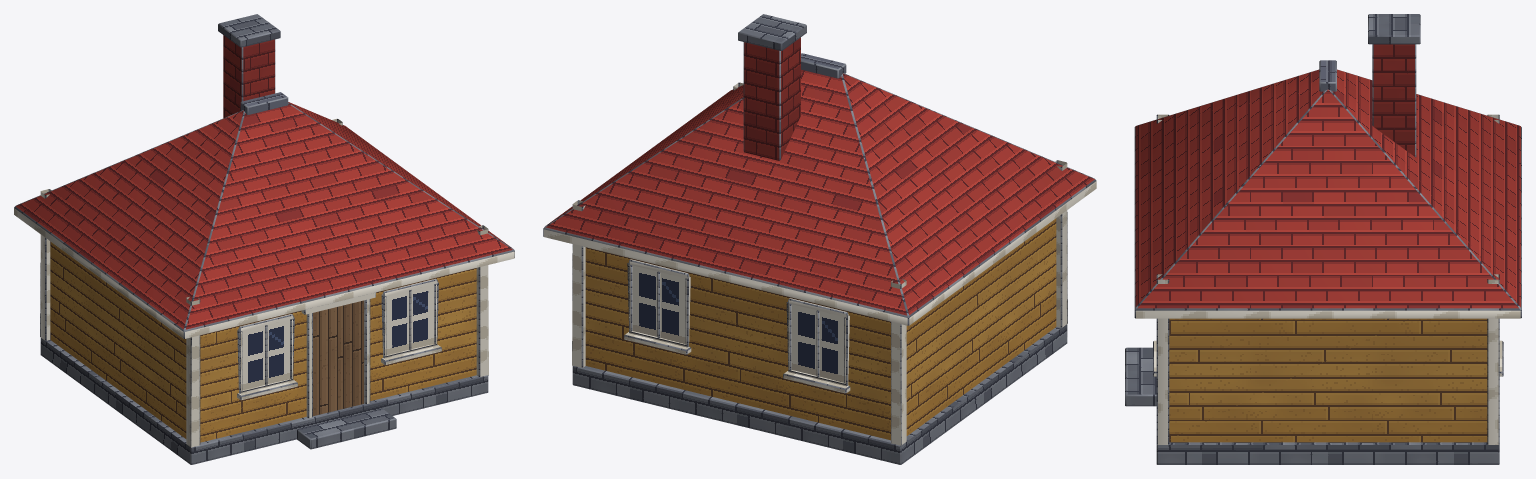
The model's file is cottage_2.glb.
The picture shows the model from 3 angles, left to right: view 1: azimuth 30°, elevation 25°; view 2: azimuth 150°, elevation 25°; view 3: azimuth 270°, elevation 25°; orthographic projection. The views are drawn at different scales.
Parts seen in each view (by area): view 1: cottage_3; view 2: cottage_3; view 3: cottage_3.
Part boxes in pixels (x1=…): cottage_3: x1=14, y1=14, x2=514, y2=464; cottage_3: x1=543, y1=14, x2=1096, y2=464; cottage_3: x1=1125, y1=14, x2=1521, y2=464.
Size of the model in its own units: 6.9 by 6.41 by 6.3.
Materials: 9 (9 with a texture image).
